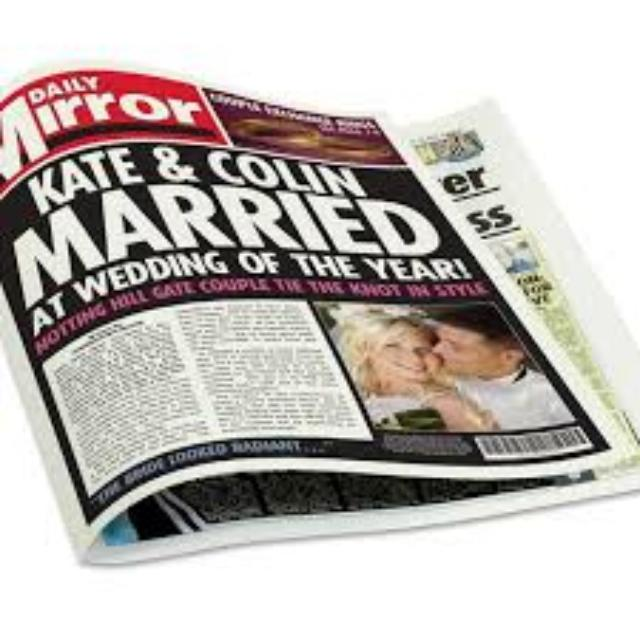cardboard paper: (0, 62, 638, 567)
